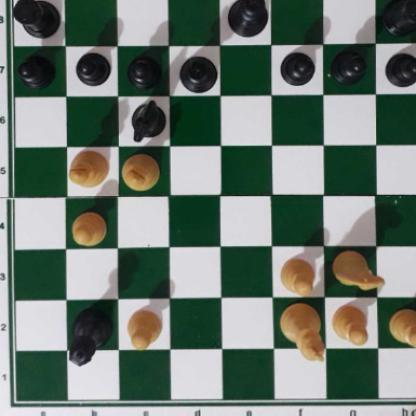black-bishop: (177, 56, 219, 94)
black-king: (225, 0, 269, 37)
black-knight: (129, 98, 166, 144)
black-pawn: (330, 48, 367, 84), (126, 52, 161, 88), (17, 52, 54, 86), (280, 48, 314, 85), (75, 50, 109, 86), (384, 49, 416, 87)
black-queen: (64, 305, 111, 367)
black-rook: (10, 0, 62, 38), (383, 0, 416, 35)
white-bishop: (120, 152, 161, 192), (67, 150, 109, 189)
white-king: (278, 302, 325, 363)
white-knight: (334, 249, 386, 291)
white-pawn: (330, 305, 370, 347), (124, 308, 162, 350), (278, 256, 318, 295), (68, 210, 108, 247), (388, 307, 416, 346)
